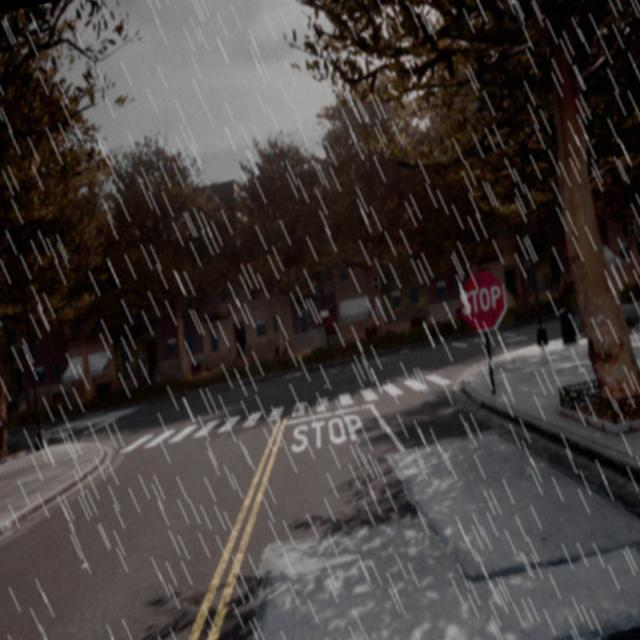stop sign: (454, 265, 508, 334), (462, 282, 502, 314)
